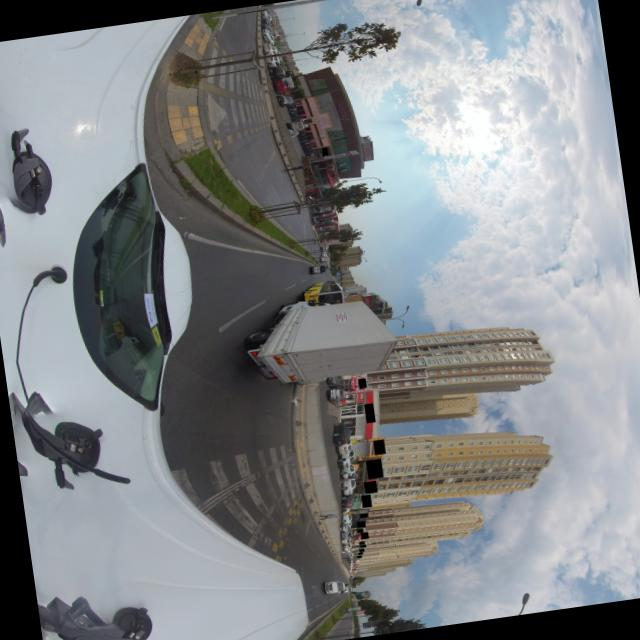SignStore: (368, 459, 380, 480), (364, 481, 375, 494), (365, 403, 372, 423), (374, 440, 383, 455), (357, 378, 366, 389), (362, 495, 369, 508), (360, 532, 367, 540), (357, 521, 364, 529), (321, 148, 327, 156), (359, 513, 367, 518), (356, 529, 362, 533), (360, 544, 365, 548), (358, 542, 364, 545), (357, 552, 362, 555), (356, 555, 361, 558), (358, 549, 363, 552)
